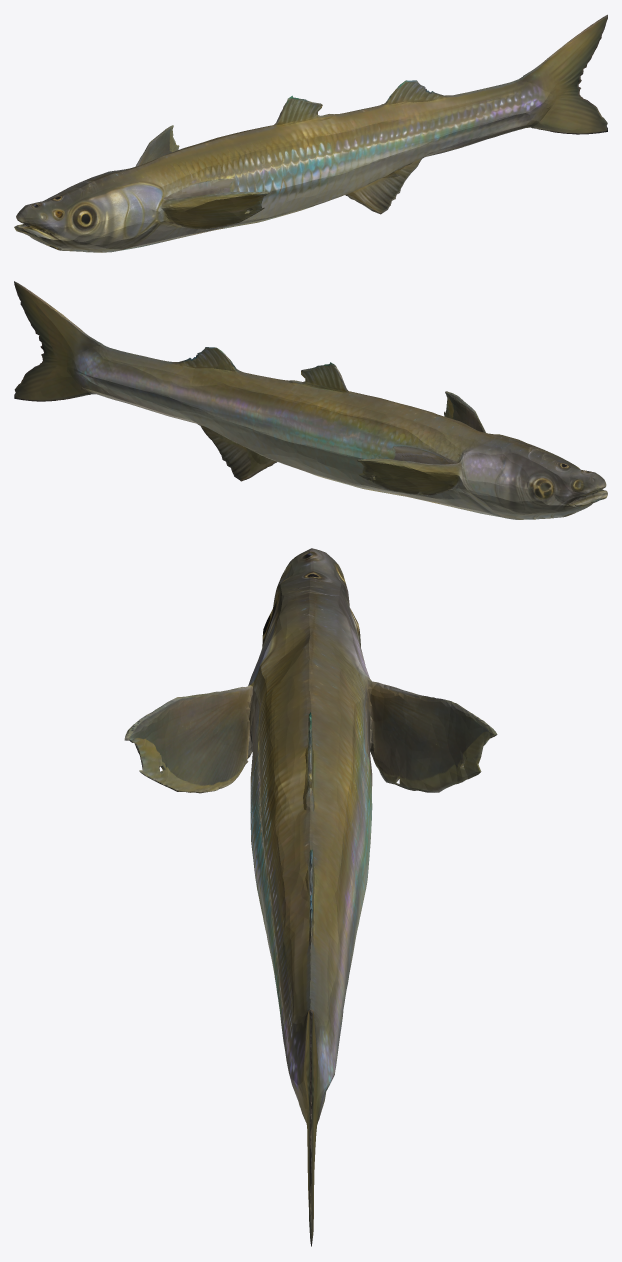
The model's file is Barracuda_Illustratio_0612005341_texture.fbx.
3 views of the same model, one above another, from view 1: azimuth 30°, elevation 25°; view 2: azimuth 150°, elevation 25°; view 3: azimuth 270°, elevation 25° (orthographic). The views are drawn at different scales.
Parts seen in each view (by area): view 1: temp; view 2: temp; view 3: temp.
Boxes of the visible parts, x1,y1,x2,y2 form: temp: (14,14,607,252); temp: (14,281,607,519); temp: (124,548,497,1246).
Bounding box in the file's own units: 197 × 45.9 × 53.58.
Materials: 1 (1 with a texture image).
